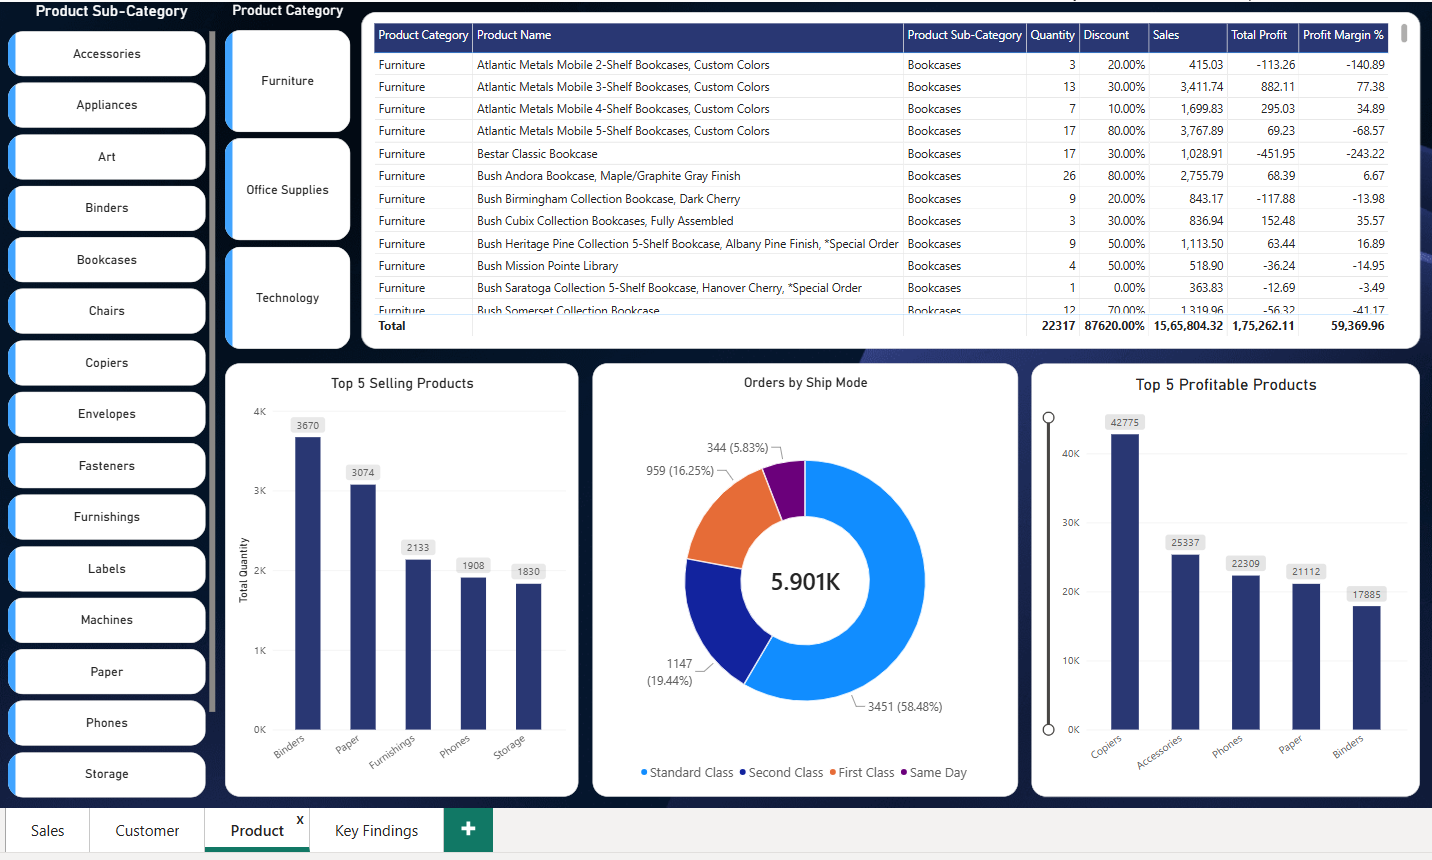

The dashboard page shown, as its layout file describes it:
{"tool":"powerbi","page":{"name":"Product","canvas":[1920,1080],"ordinal":2},"visuals":[{"type":"advancedSlicerVisual","title":"Product Sub-Category","fields":{"Values":["DIM_Product.Sub-Category"]},"box":[10.5,0,278.9,1080.7],"z":0},{"type":"advancedSlicerVisual","title":"Product Category","fields":{"Values":["DIM_Product.Category"]},"box":[301.8,0,168.4,464.9],"z":2},{"type":"tableEx","fields":{"Values":["DIM_Product.Category","DIM_Product.Product Name","DIM_Product.Sub-Category","Sum(FACT_Orders.Quantity)","Sum(FACT_Orders.Discount)","Sum(FACT_Orders.Sales)","Sum(FACT_Orders.Profit)","Sum(FACT_Orders.Profit Margin %)"]},"box":[484.2,14,1419.3,450.9],"z":3},{"type":"donutChart","title":"Orders by Ship Mode","fields":{"Category":["FACT_Orders.Ship Mode"],"Y":["CountNonNull(FACT_Orders.Payment Mode)"]},"box":[794.7,484.2,570.2,580.7],"z":4},{"type":"clusteredColumnChart","title":"Top 5 Selling Products","fields":{"Category":["DIM_Product.Sub-Category"],"Y":["Sum(FACT_Orders.Quantity)"]},"box":[301.8,484.2,473.7,580.7],"z":5},{"type":"clusteredColumnChart","title":"Top 5 Profitable Products","fields":{"Y":["Sum(FACT_Orders.Profit)"],"Category":["DIM_Product.Sub-Category"]},"box":[1382.5,484.2,521.1,580.7],"z":6}]}

Visuals, with their boxes on the page's 1920x1080 design canvas (x1, y1, x2, y2). These are canvas units, not pixel positions in the 1432x860 screenshot, which may show the page scaled, cropped or inside an application window:
"Product Sub-Category" advancedSlicerVisual: select_region(10, 0, 289, 1081)
"Product Category" advancedSlicerVisual: select_region(302, 0, 470, 465)
tableEx - DIM_Product.Category x DIM_Product.Product Name: select_region(484, 14, 1904, 465)
"Orders by Ship Mode" donutChart: select_region(795, 484, 1365, 1065)
"Top 5 Selling Products" clusteredColumnChart: select_region(302, 484, 776, 1065)
"Top 5 Profitable Products" clusteredColumnChart: select_region(1382, 484, 1904, 1065)
